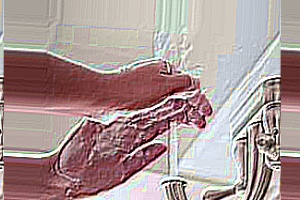washing hand: (67, 47, 262, 199)
